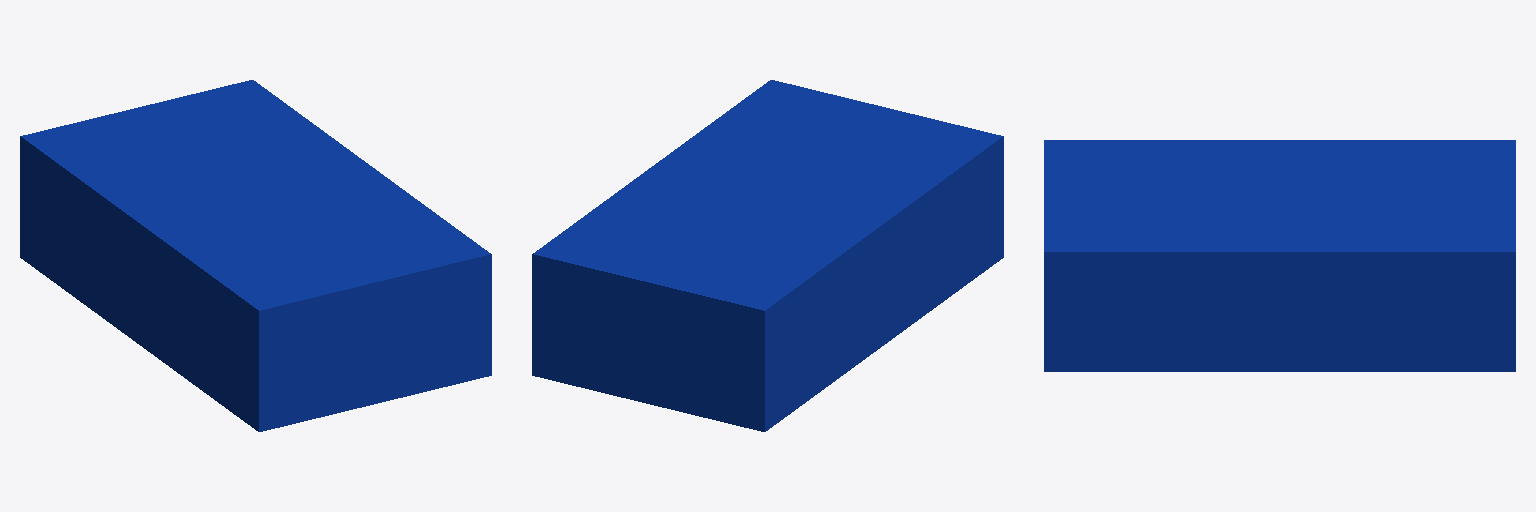
URDF robot description (fallback_submarine):
<?xml version="1.0"?>
<robot name="fallback_submarine">
  <link name="hull">
    <inertial>
      <origin xyz="0 0 0" rpy="0 0 0"/>
      <mass value="260.0"/>
      <inertia ixx="40.0" ixy="0.0" ixz="0.0" iyy="70.0" iyz="0.0" izz="90.0"/>
    </inertial>
    <visual>
      <origin xyz="0 0 0" rpy="0 0 0"/>
      <geometry>
        <box size="1.8 3.2 0.9"/>
      </geometry>
      <material name="fallback_blue">
        <color rgba="0.1 0.3 0.7 1.0"/>
      </material>
    </visual>
    <collision>
      <origin xyz="0 0 0" rpy="0 0 0"/>
      <geometry>
        <box size="1.8 3.2 0.9"/>
      </geometry>
    </collision>
  </link>
</robot>

--- What the picture shows (computed from the rendered views, not written in the file) ---
The picture shows the robot from 3 angles, left to right: view 1: azimuth 30°, elevation 25°; view 2: azimuth 150°, elevation 25°; view 3: azimuth 270°, elevation 25°; orthographic projection.
Robot: fallback_submarine — 1 links, 0 joints (none); root link hull; default pose: every joint at zero.
Visible links, largest first — view 1: hull; view 2: hull; view 3: hull.
Link boxes in pixels (left/top/right/bottom): hull: left=20, top=80, right=491, bottom=431; hull: left=532, top=80, right=1003, bottom=431; hull: left=1044, top=140, right=1515, bottom=371.
Size in the robot's own frame: 1.8 by 3.2 by 0.9 metres.
Geometry: primitives only (box / cylinder / sphere), no mesh files.